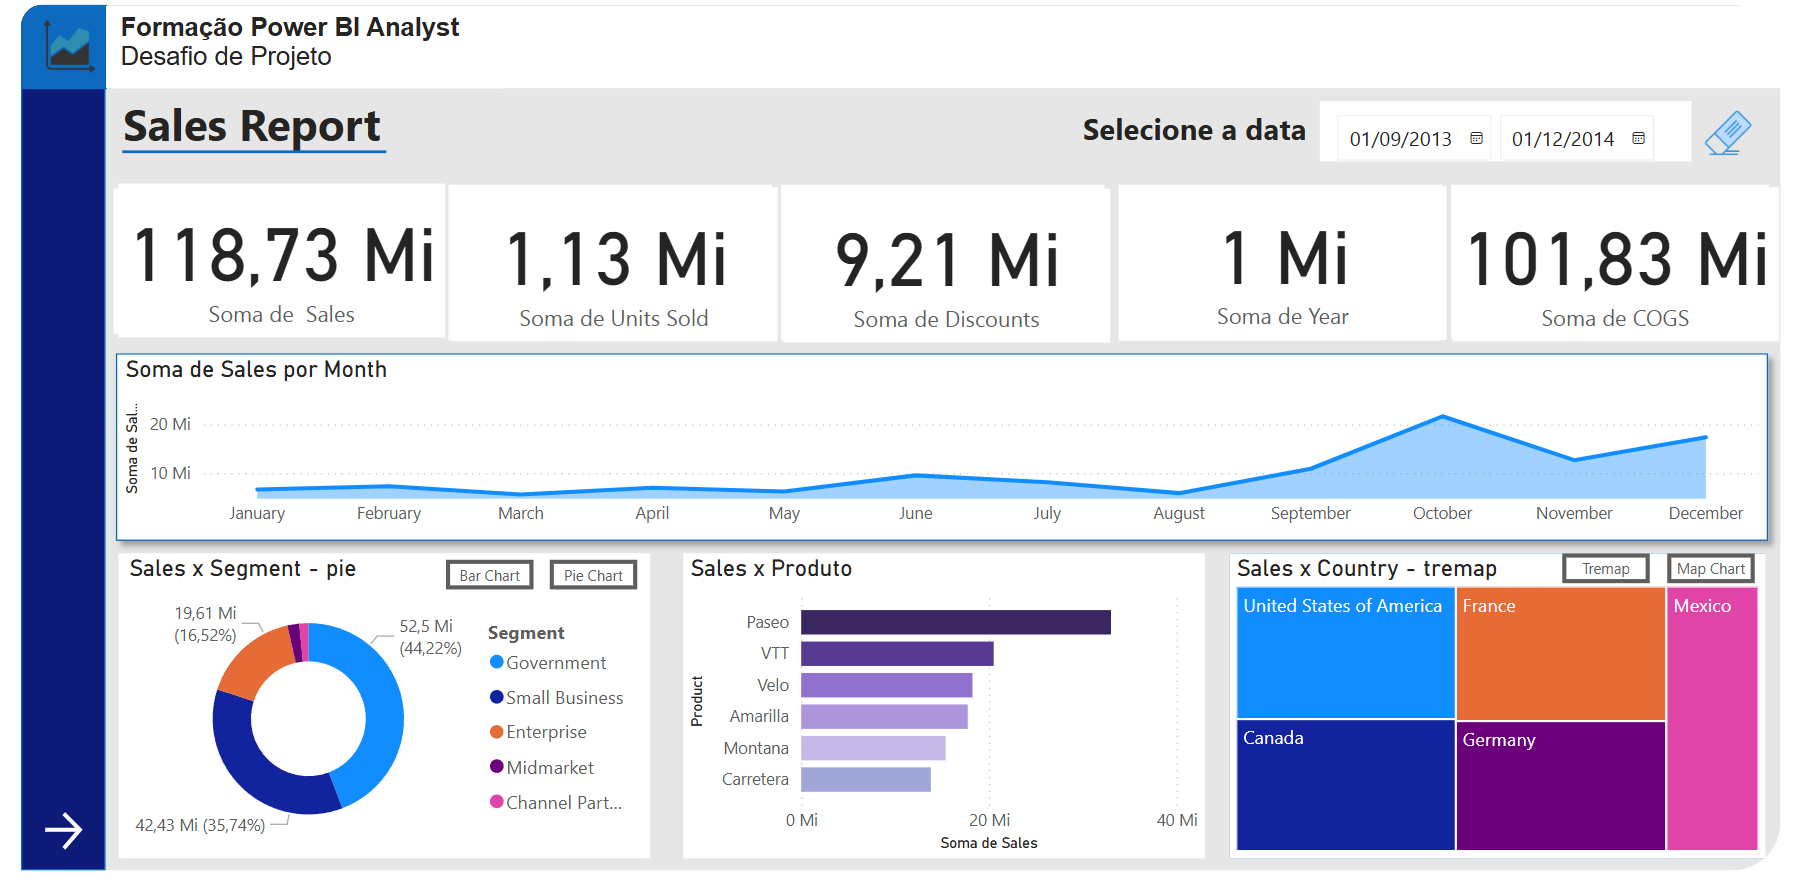

What the dashboard file says about the page in this screenshot:
{"tool":"powerbi","page":{"name":"Página 1","canvas":[1280,720],"ordinal":0},"visuals":[{"type":"textbox","box":[767.1,79.6,190.7,37],"z":0,"group":"g7"},{"type":"shape","box":[73.6,117.3,202.7,12.1],"z":0},{"type":"group","id":"g1","title":"Cartões ","box":[67.2,141,1204.1,113.4],"z":0,"group":"g8"},{"type":"shape","box":[311,141,235.3,113.4],"z":0,"group":"g4"},{"type":"shape","box":[552.3,141,235.3,113.4],"z":0,"group":"g6"},{"type":"shape","box":[798.4,141,235.3,113.4],"z":0,"group":"g5"},{"type":"shape","box":[1039.7,141,231.6,112.2],"z":0,"group":"g3"},{"type":"group","id":"g2","title":"Cartões","box":[67.2,144.1,238.8,105.7],"z":0,"group":"g1"},{"type":"shape","box":[67.2,144.1,238.8,105.7],"z":0,"group":"g2"},{"type":"treemap","title":"  Sales x Country - tremap","fields":{"Group":["financials.Country"],"Values":["Sum(financials. Sales)"]},"box":[879.6,409.1,389.8,221.6],"z":0,"group":"g9"},{"type":"shape","box":[0,9.7,1280,629.8],"z":1000},{"type":"slicer","fields":{"Values":["financials.Date"]},"box":[944.1,79.6,270.3,43.9],"z":1000,"group":"g7"},{"type":"card","fields":{"Values":["Sum(financials. Sales)"]},"box":[70.4,139.8,237.7,112.2],"z":1000,"group":"g8"},{"type":"group","id":"g3","title":"Cartões","box":[1039.7,141,231.6,112.2],"z":1000,"group":"g1"},{"type":"map","title":"  Sales x Country - maps","fields":{"Category":["financials.Country"],"Size":["Sum(financials. Sales)"]},"box":[879.5,409,389.7,222],"z":1000,"group":"g9"},{"type":"donutChart","title":"Sales x Segment - pie","fields":{"Y":["Sum(financials. Sales)"],"Category":["financials.Segment"]},"box":[73.9,409.1,384.1,221.6],"z":1187,"group":"g10"},{"type":"actionButton","title":"Botão bar","box":[308.9,413.6,63.6,21.6],"z":1250,"group":"g10"},{"type":"actionButton","title":"Botão map","box":[1197.7,409.1,63.6,21.6],"z":1500,"group":"g9"},{"type":"actionButton","title":"Botão pie","box":[385,413.6,63.6,21.6],"z":1500,"group":"g10"},{"type":"shape","box":[0,9.7,61.5,629.8],"z":2000},{"type":"group","id":"g4","title":"Cartões","box":[311,141,235.3,113.4],"z":2000,"group":"g1"},{"type":"card","fields":{"Values":["Sum(financials.Units Sold)"]},"box":[312.9,142.2,237.7,112.2],"z":2000,"group":"g8"},{"type":"actionButton","title":"Botão tremap","box":[1121.6,409.1,63.6,21.6],"z":2000,"group":"g9"},{"type":"textbox","box":[69.1,70.4,217.5,55],"z":3000},{"type":"image","title":"clean","box":[1214.4,79.6,54.9,46.7],"z":3000,"group":"g7"},{"type":"group","id":"g5","title":"Cartões","box":[798.4,141,235.3,113.4],"z":3000,"group":"g1"},{"type":"card","fields":{"Values":["Sum(financials.Discounts)"]},"box":[554.2,143.4,237.7,112.2],"z":3000,"group":"g8"},{"type":"actionButton","box":[1217.1,84.1,54.5,39.8],"z":3500,"group":"g7"},{"type":"shape","box":[1.2,9.7,61.5,61.5],"z":4000},{"type":"group","id":"g6","title":"Cartões","box":[552.3,141,235.3,113.4],"z":4000,"group":"g1"},{"type":"card","fields":{"Values":["Sum(financials.Year)"]},"box":[799.2,141.3,237.7,112.2],"z":4000,"group":"g8"},{"type":"shape","box":[61.5,10.9,1218.5,60.3],"z":5000},{"type":"card","fields":{"Values":["Sum(financials.COGS)"]},"box":[1040.5,142.5,237.7,112.2],"z":5000,"group":"g8"},{"type":"textbox","box":[67.6,10.9,283.5,60.3],"z":6000},{"type":"shape","box":[60.3,254.6,1219.7,154.4],"z":7000},{"type":"shape","box":[70.7,408.7,381.2,222],"z":8000},{"type":"shape","box":[879.5,409,389.7,222],"z":9000},{"type":"shape","box":[481.4,409,378.8,222],"z":10000},{"type":"lineChart","fields":{"Y":["Sum(financials. Sales)"],"Category":["financials.Date.Variation.Date Hierarchy.Month"]},"box":[71.2,264.2,1198,133.9],"z":11000},{"type":"clusteredBarChart","title":" Sales x Produto","fields":{"Y":["Sum(financials. Sales)"],"Category":["financials.Product"]},"box":[481.4,409,378.8,222],"z":12000},{"type":"group","id":"g7","title":"Filtro por Data","box":[767.1,79.6,504.5,46.7],"z":13000},{"type":"group","id":"g8","title":"Cartões","box":[67.2,139.8,1211,115.8],"z":14000},{"type":"group","id":"g9","title":"Sales x país","box":[879.5,409,389.8,222],"z":15000},{"type":"group","id":"g10","title":"Sales x segmento","box":[73.9,409.1,384.1,221.6],"z":16000},{"type":"actionButton","box":[12.1,591.2,37.4,39.8],"z":17000},{"type":"shape","box":[73.6,111,191.8,12.1],"z":18000},{"type":"image","box":[7.2,15.7,55.5,49.5],"z":19000}]}

Visuals, with their boxes on the page's 1280x720 design canvas (x1, y1, x2, y2). These are canvas units, not pixel positions in the 1799x887 screenshot, which may show the page scaled, cropped or inside an application window:
textbox: [left=767, top=80, right=958, bottom=117]
shape: [left=74, top=117, right=276, bottom=129]
"Cartões " group: [left=67, top=141, right=1271, bottom=254]
shape: [left=311, top=141, right=546, bottom=254]
shape: [left=552, top=141, right=788, bottom=254]
shape: [left=798, top=141, right=1034, bottom=254]
shape: [left=1040, top=141, right=1271, bottom=253]
"Cartões" group: [left=67, top=144, right=306, bottom=250]
shape: [left=67, top=144, right=306, bottom=250]
"  Sales x Country - tremap" treemap: [left=880, top=409, right=1269, bottom=631]
shape: [left=0, top=10, right=1280, bottom=640]
slicer - financials.Date: [left=944, top=80, right=1214, bottom=124]
card - Sum(financials. Sales): [left=70, top=140, right=308, bottom=252]
"Cartões" group: [left=1040, top=141, right=1271, bottom=253]
"  Sales x Country - maps" map: [left=880, top=409, right=1269, bottom=631]
"Sales x Segment - pie" donutChart: [left=74, top=409, right=458, bottom=631]
"Botão bar" actionButton: [left=309, top=414, right=372, bottom=435]
"Botão map" actionButton: [left=1198, top=409, right=1261, bottom=431]
"Botão pie" actionButton: [left=385, top=414, right=449, bottom=435]
shape: [left=0, top=10, right=62, bottom=640]
"Cartões" group: [left=311, top=141, right=546, bottom=254]
card - Sum(financials.Units Sold): [left=313, top=142, right=551, bottom=254]
"Botão tremap" actionButton: [left=1122, top=409, right=1185, bottom=431]
textbox: [left=69, top=70, right=287, bottom=125]
"clean" image: [left=1214, top=80, right=1269, bottom=126]
"Cartões" group: [left=798, top=141, right=1034, bottom=254]
card - Sum(financials.Discounts): [left=554, top=143, right=792, bottom=256]
actionButton: [left=1217, top=84, right=1272, bottom=124]
shape: [left=1, top=10, right=63, bottom=71]
"Cartões" group: [left=552, top=141, right=788, bottom=254]
card - Sum(financials.Year): [left=799, top=141, right=1037, bottom=254]
shape: [left=62, top=11, right=1280, bottom=71]
card - Sum(financials.COGS): [left=1040, top=142, right=1278, bottom=255]
textbox: [left=68, top=11, right=351, bottom=71]
shape: [left=60, top=255, right=1280, bottom=409]
shape: [left=71, top=409, right=452, bottom=631]
shape: [left=880, top=409, right=1269, bottom=631]
shape: [left=481, top=409, right=860, bottom=631]
lineChart - Sum(financials. Sales) x financials.Date.Variation.Date Hierarchy.Month: [left=71, top=264, right=1269, bottom=398]
" Sales x Produto" clusteredBarChart: [left=481, top=409, right=860, bottom=631]
"Filtro por Data" group: [left=767, top=80, right=1272, bottom=126]
"Cartões" group: [left=67, top=140, right=1278, bottom=256]
"Sales x país" group: [left=880, top=409, right=1269, bottom=631]
"Sales x segmento" group: [left=74, top=409, right=458, bottom=631]
actionButton: [left=12, top=591, right=50, bottom=631]
shape: [left=74, top=111, right=265, bottom=123]
image: [left=7, top=16, right=63, bottom=65]
